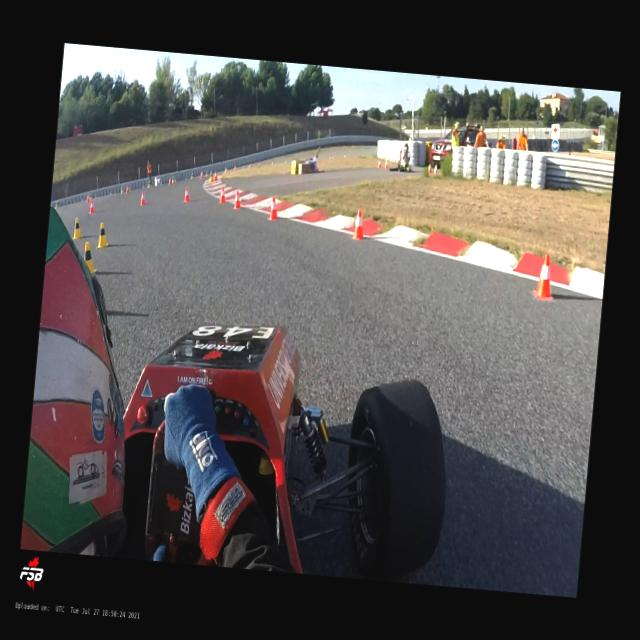orange_cone: (534, 254, 556, 299), (352, 209, 364, 239), (268, 197, 278, 220), (233, 190, 241, 208), (219, 186, 226, 203), (183, 187, 190, 202), (88, 198, 95, 212), (140, 190, 146, 204), (432, 163, 438, 173), (426, 163, 432, 173), (213, 171, 217, 181), (86, 193, 90, 202), (125, 185, 129, 193), (168, 177, 172, 185), (384, 160, 388, 168), (377, 160, 381, 168)
yellow_cone: (82, 242, 98, 270), (96, 222, 110, 250), (72, 217, 84, 240), (208, 170, 212, 182), (120, 185, 124, 192), (171, 175, 175, 182), (147, 180, 150, 188), (89, 194, 92, 200), (190, 173, 192, 180)
